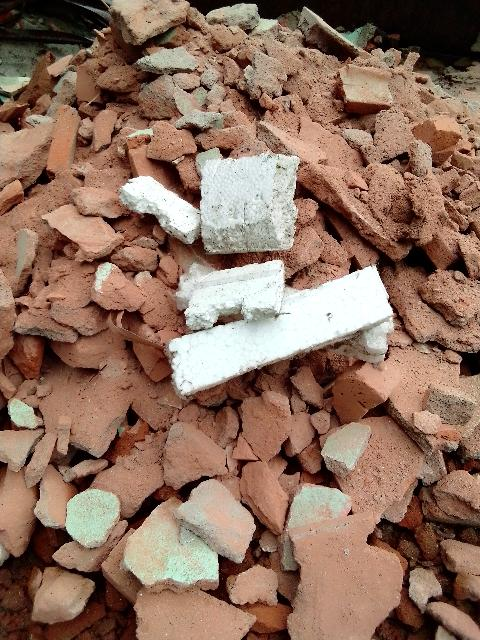cocksheet: (108, 142, 426, 415)
